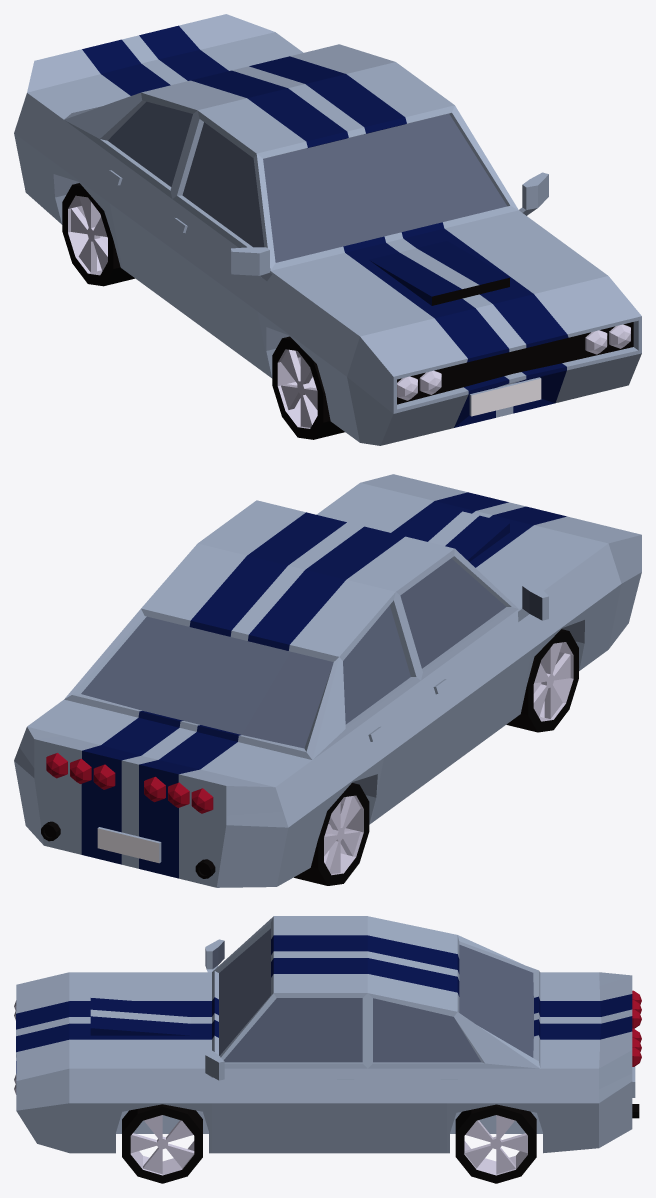
Rendered from Muscle 2.glb.
3 renders of one model, top to bottom at view 1: azimuth 30°, elevation 25°; view 2: azimuth 150°, elevation 25°; view 3: azimuth 270°, elevation 25°, orthographic. The views are drawn at different scales.
Visible parts, largest first — view 1: Muscle 2, Muscle 2 wheel front right, Muscle 2 wheel rear right; view 2: Muscle 2, Muscle 2 wheel front right, Muscle 2 wheel rear right; view 3: Muscle 2, Muscle 2 wheel front left, Muscle 2 wheel rear left.
Boxes of the visible parts, x1,y1,x2,y2 form: Muscle 2: (14, 14, 641, 445); Muscle 2 wheel front right: (272, 336, 344, 439); Muscle 2 wheel rear right: (62, 183, 134, 286); Muscle 2: (14, 474, 641, 887); Muscle 2 wheel front right: (506, 629, 578, 732); Muscle 2 wheel rear right: (294, 783, 369, 885); Muscle 2: (14, 916, 641, 1153); Muscle 2 wheel front left: (122, 1104, 202, 1183); Muscle 2 wheel rear left: (455, 1104, 536, 1183).
Bounding box in the file's own units: 281 × 191 × 606.
